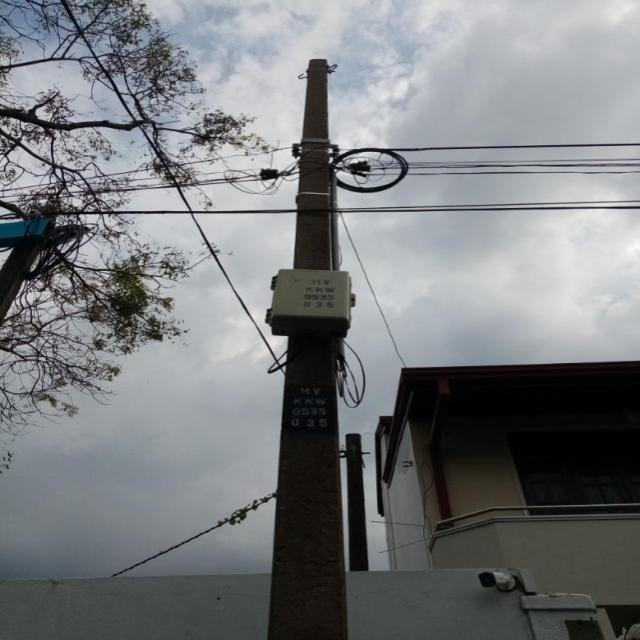light_pole: (264, 54, 372, 640)
